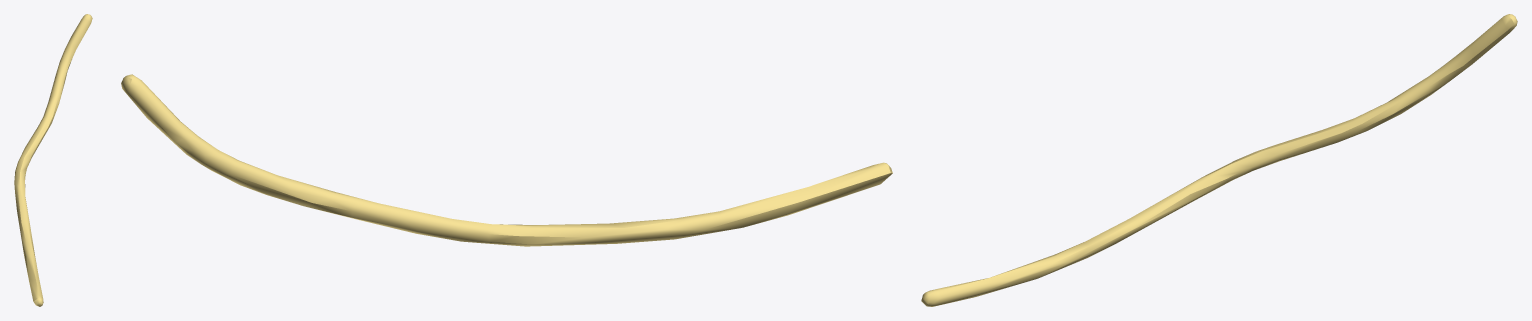
The model's file is fma82734_fj1369.glb.
3 views of the same model, side by side, from view 1: azimuth 30°, elevation 25°; view 2: azimuth 150°, elevation 25°; view 3: azimuth 330°, elevation 25° (orthographic). The views are drawn at different scales.
Parts seen in each view (by area): view 1: FMA82734_FJ1369; view 2: FMA82734_FJ1369; view 3: FMA82734_FJ1369.
Boxes of the visible parts, x1,y1,x2,y2 form: FMA82734_FJ1369: (14, 14, 92, 306); FMA82734_FJ1369: (121, 74, 892, 246); FMA82734_FJ1369: (921, 14, 1517, 306).
Bounding box in the file's own units: 0.012 × 0.00638 × 0.0158.
